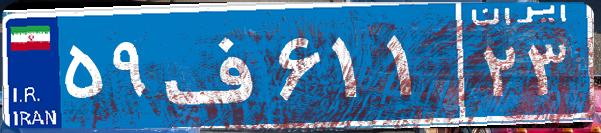1: (385, 28, 445, 110), (330, 28, 385, 110)
2: (475, 38, 525, 113)
3: (525, 38, 570, 115)
5: (57, 26, 110, 107)
6: (273, 28, 330, 110)
9: (110, 28, 158, 105)
ف: (158, 15, 273, 115)
